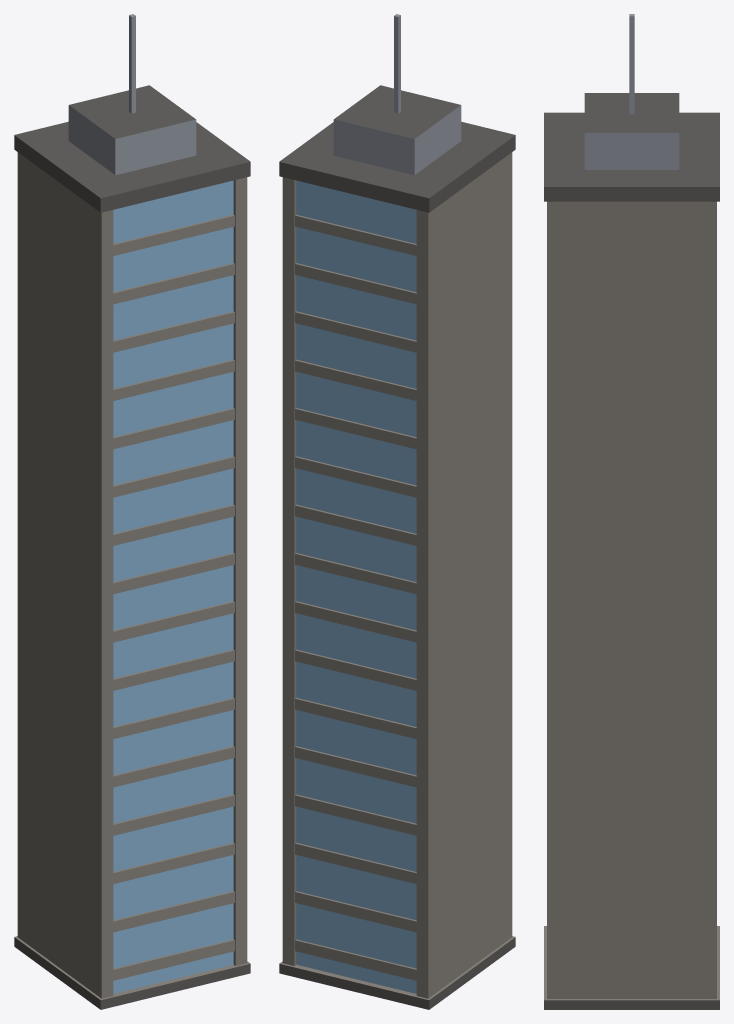
The model's file is torre_alta.obj.
3 views of the same model, side by side, from view 1: azimuth 30°, elevation 25°; view 2: azimuth 150°, elevation 25°; view 3: azimuth 270°, elevation 25° (orthographic).
Visible parts, largest first — view 1: torre_alta; view 2: torre_alta; view 3: torre_alta.
Boxes of the visible parts, <box> form: torre_alta: <box>14,14,250,1009</box>; torre_alta: <box>279,14,515,1009</box>; torre_alta: <box>544,14,719,1009</box>.
Size of the model in its own units: 13 by 78.2 by 13.
